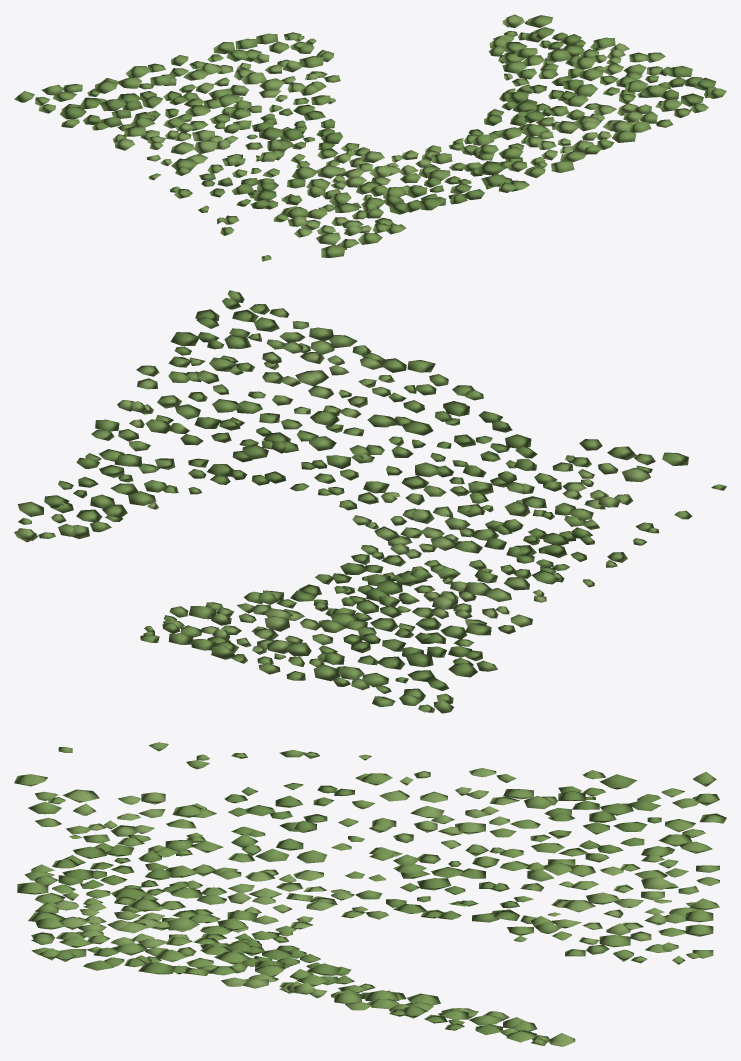
File: canopy-1-0-2.glb
The picture shows the model from 3 angles, top to bottom: view 1: azimuth 30°, elevation 25°; view 2: azimuth 150°, elevation 25°; view 3: azimuth 270°, elevation 25°; orthographic projection. The views are drawn at different scales.
Bounding box in the file's own units: 512 × 100 × 518.
1 material, 1 textured.
